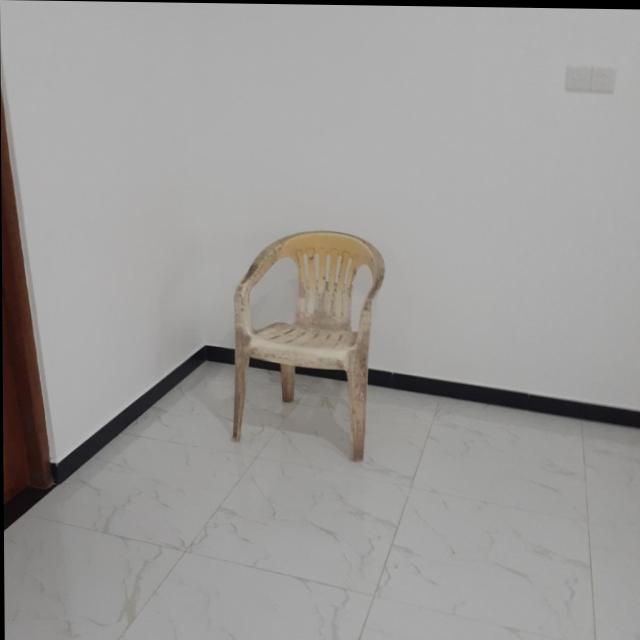Chair: (230, 227, 388, 462)
